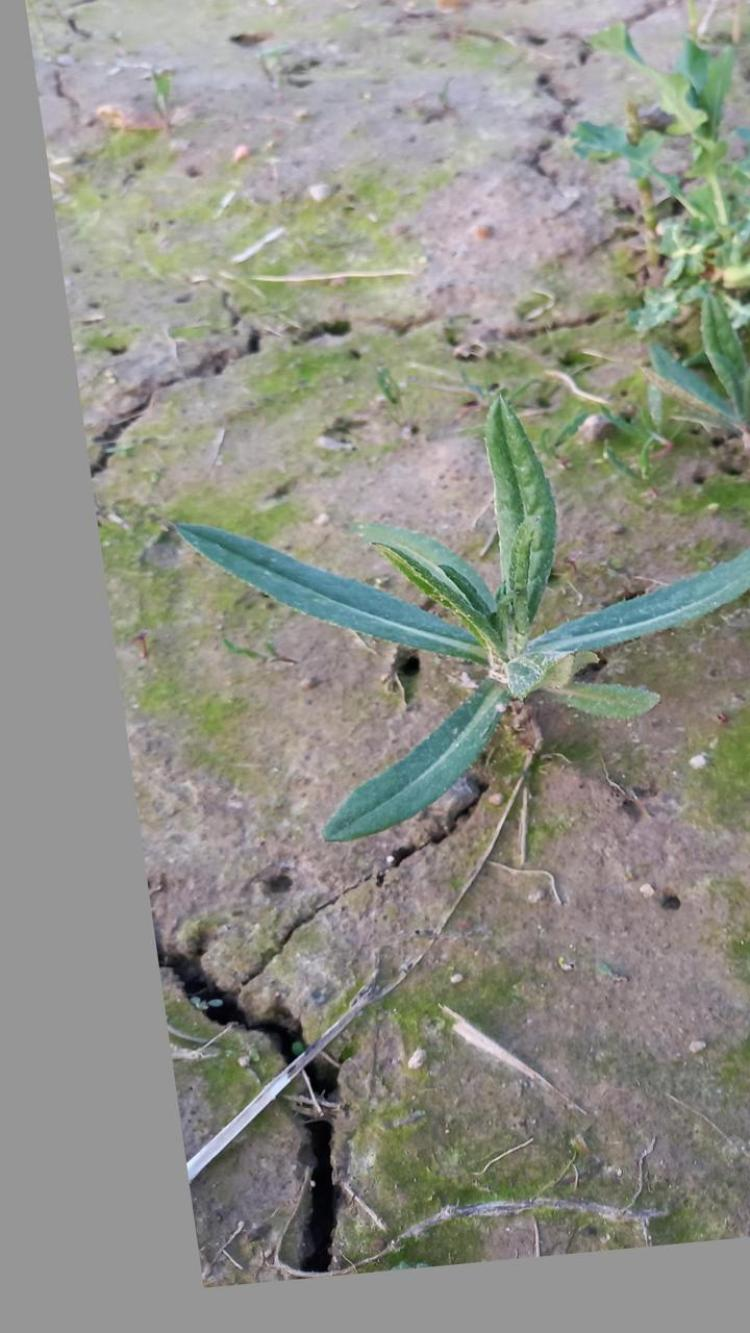osot: (175, 392, 750, 850)
